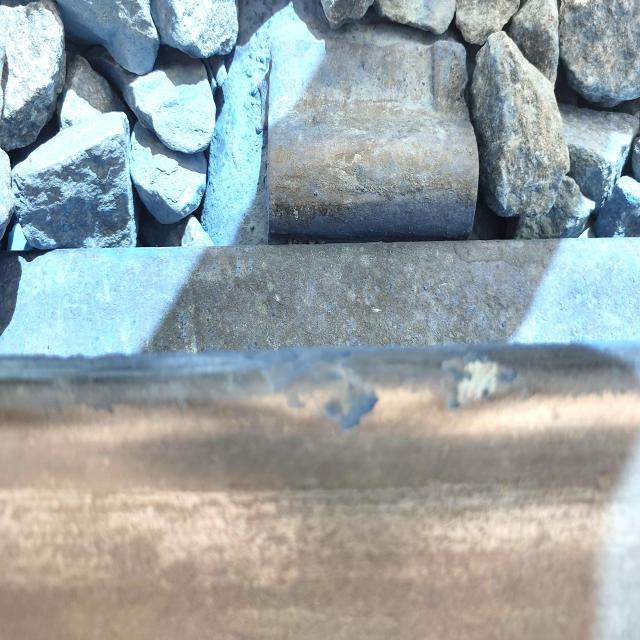Missing Fastener: (201, 32, 513, 249)
